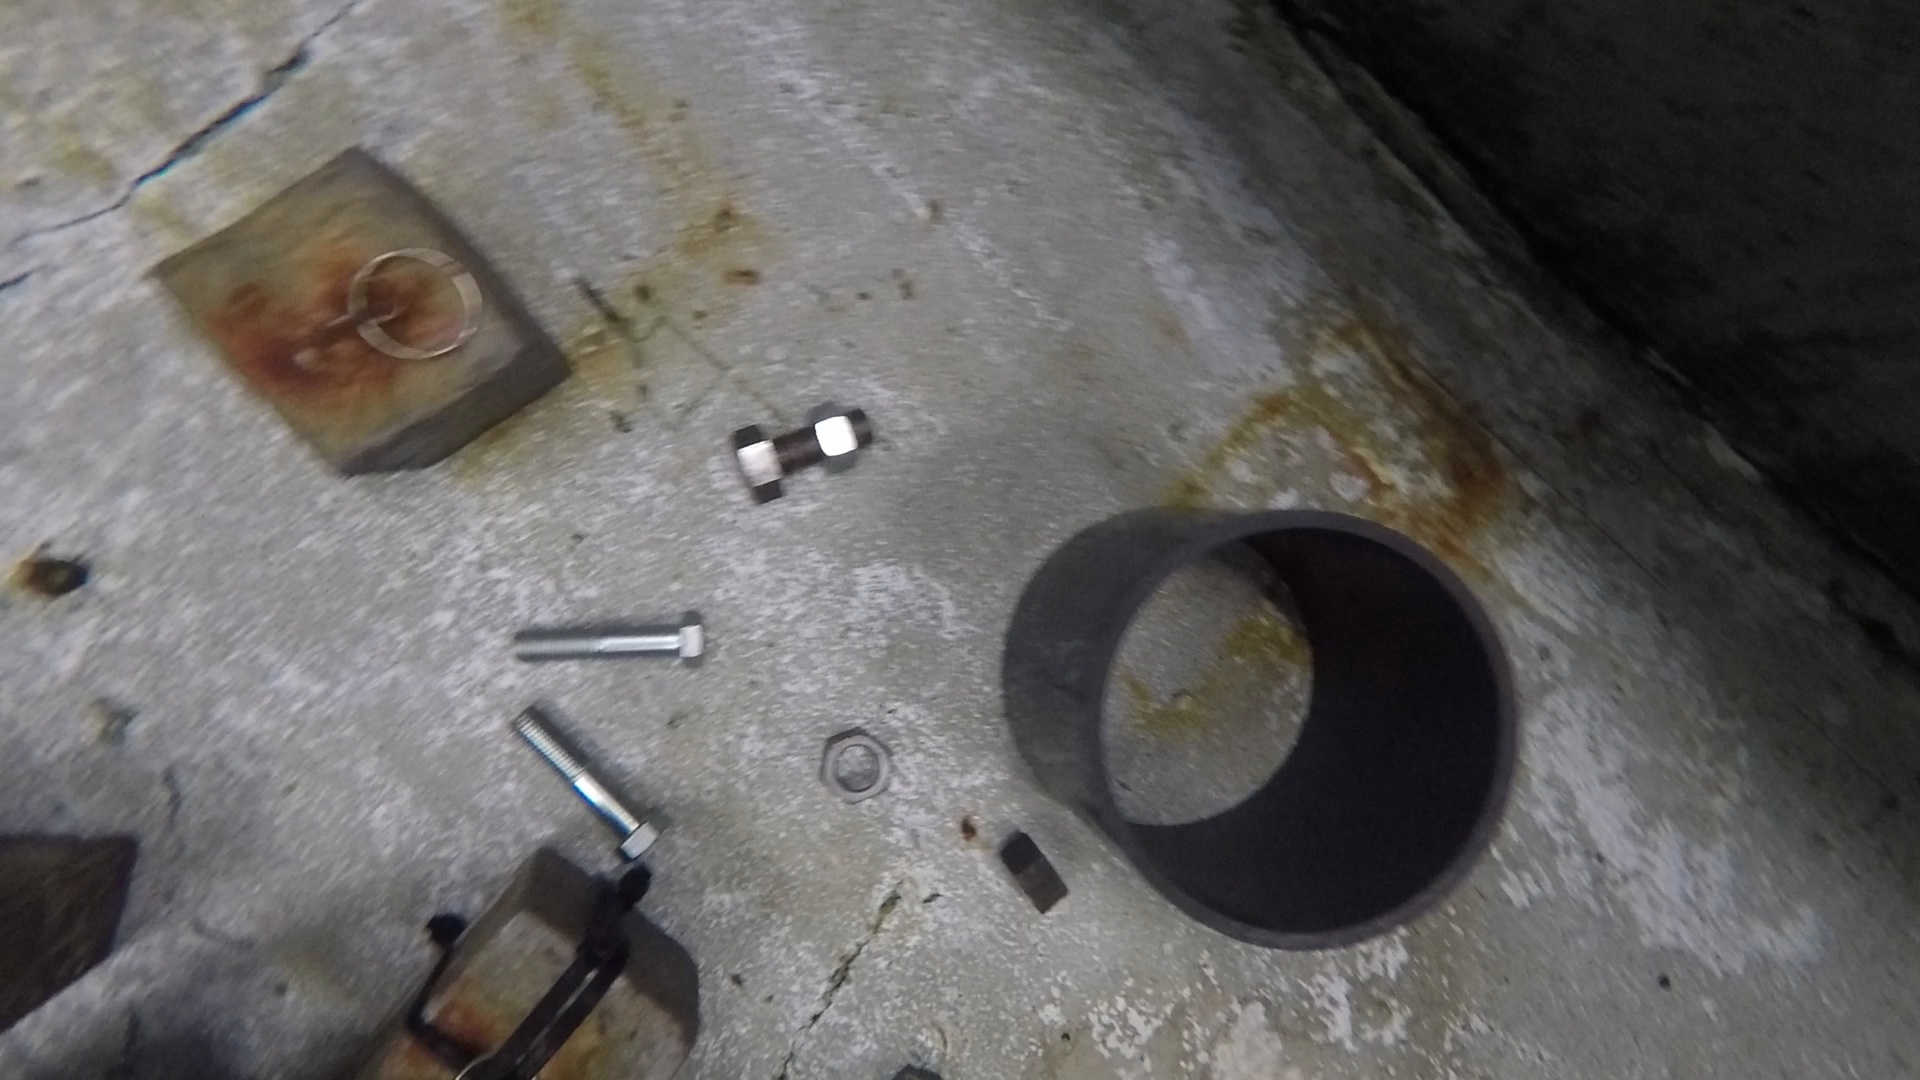bolt: (512, 705, 669, 861), (731, 409, 876, 502), (514, 611, 705, 669)
led_block: (152, 146, 575, 477), (344, 848, 700, 1080), (1, 833, 135, 1029)
nut: (1001, 829, 1069, 916), (819, 727, 893, 804)
pipe: (1002, 505, 1520, 951)
